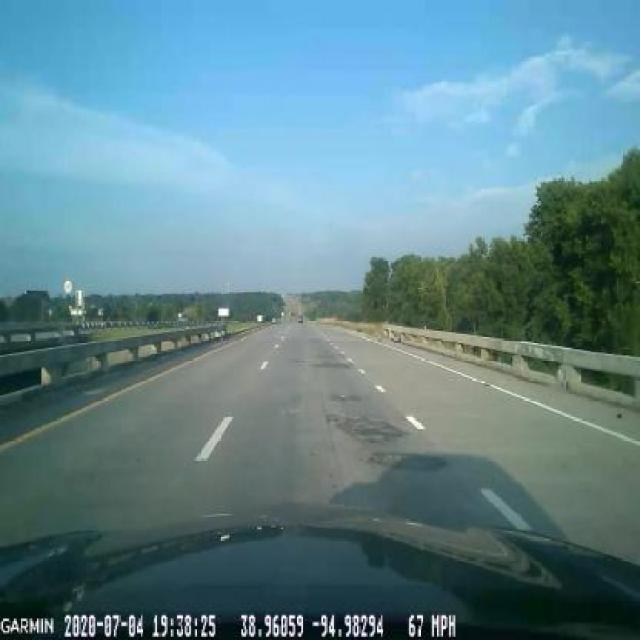Pothole: (319, 404, 410, 451), (366, 444, 459, 481), (321, 385, 365, 410)
